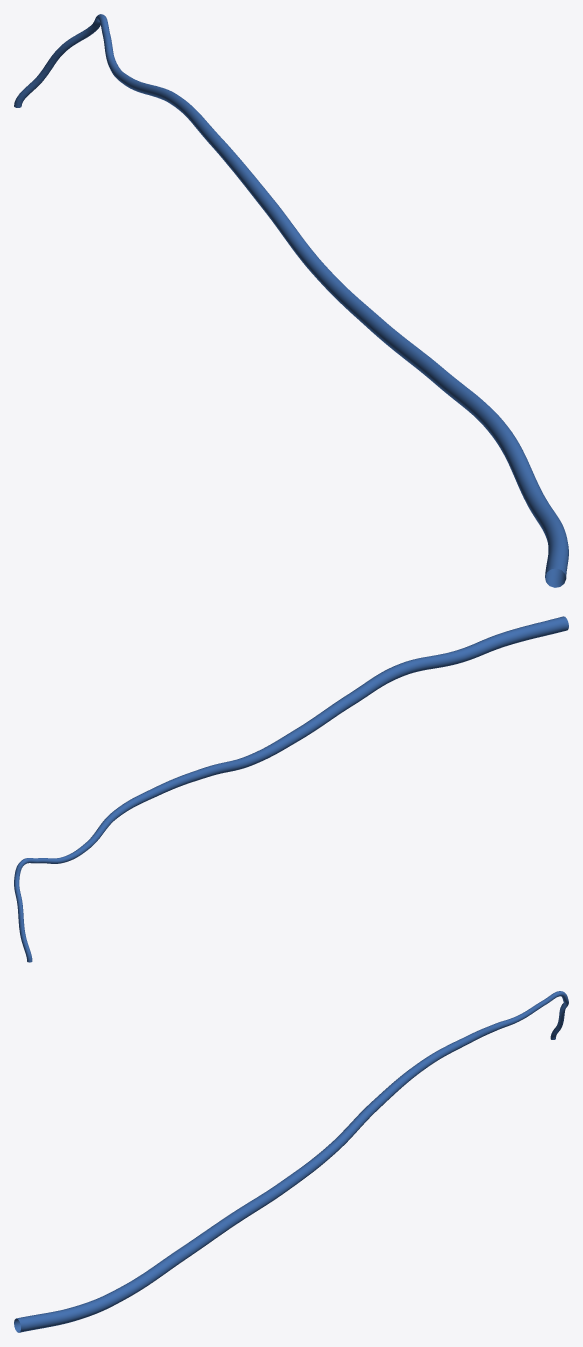
3 renders of one model, top to bottom at view 1: azimuth 30°, elevation 25°; view 2: azimuth 150°, elevation 25°; view 3: azimuth 330°, elevation 25°, orthographic. The views are drawn at different scales.
Parts seen in each view (by area): view 1: 右侧胫后静脉; view 2: 右侧胫后静脉; view 3: 右侧胫后静脉.
Boxes of the visible parts, x1=… form: 右侧胫后静脉: x1=14, y1=14, x2=568, y2=587; 右侧胫后静脉: x1=14, y1=616, x2=568, y2=962; 右侧胫后静脉: x1=14, y1=991, x2=568, y2=1332.
Bounding box in the file's own units: 0.0781 × 0.0475 × 0.5032.
